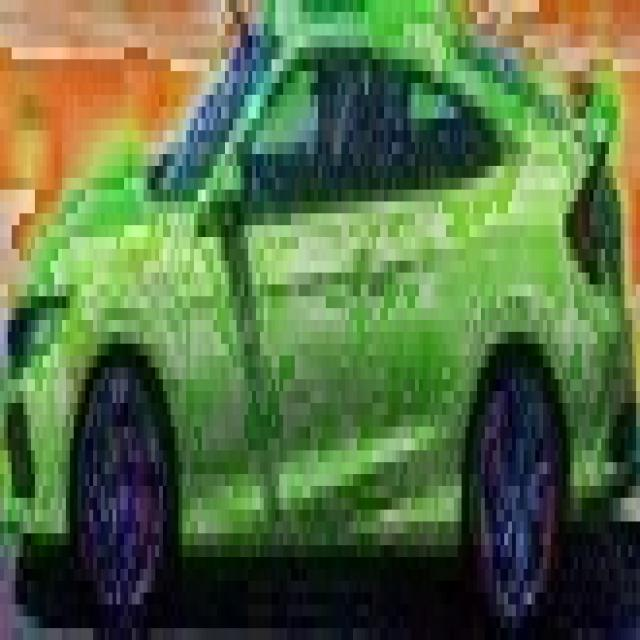green: (6, 0, 634, 628)
